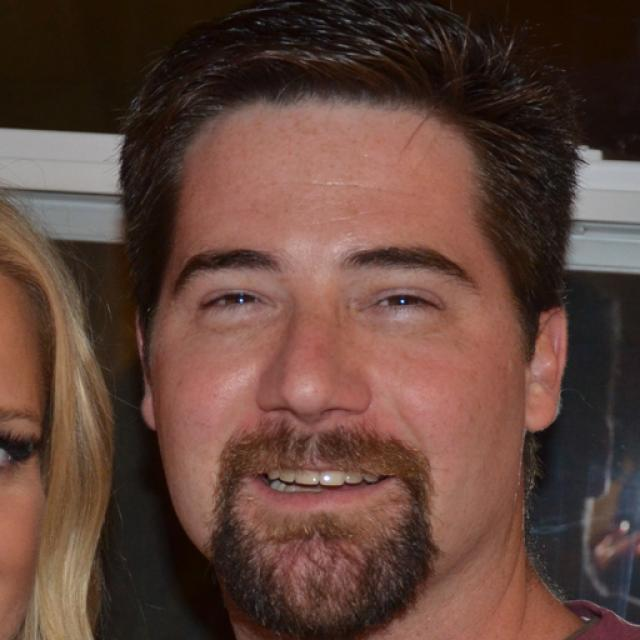Wrinkle: (268, 176, 444, 204), (303, 206, 445, 226)
